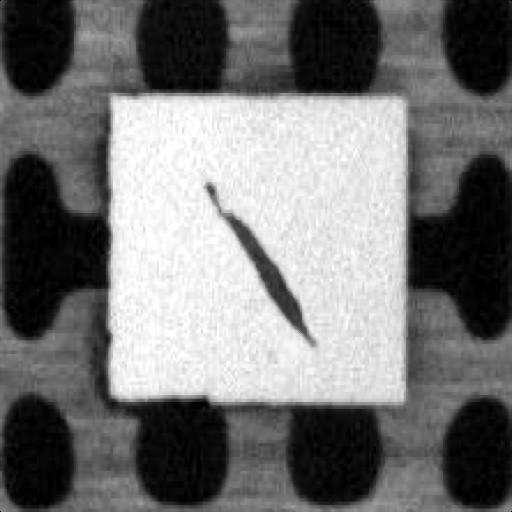DIE_INK: (196, 175, 314, 347)
